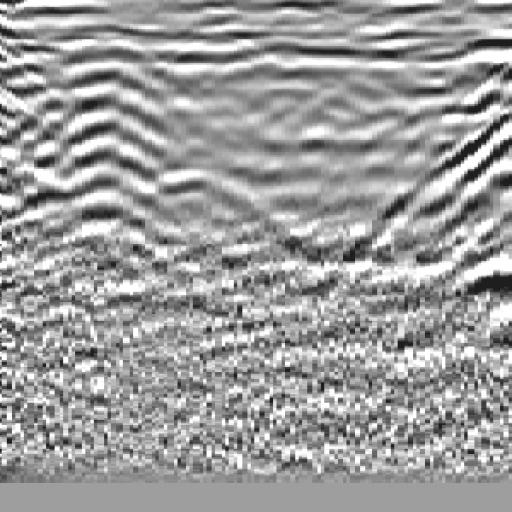metalic: (88, 41, 300, 283)
nonmetalic: (365, 42, 512, 301)
